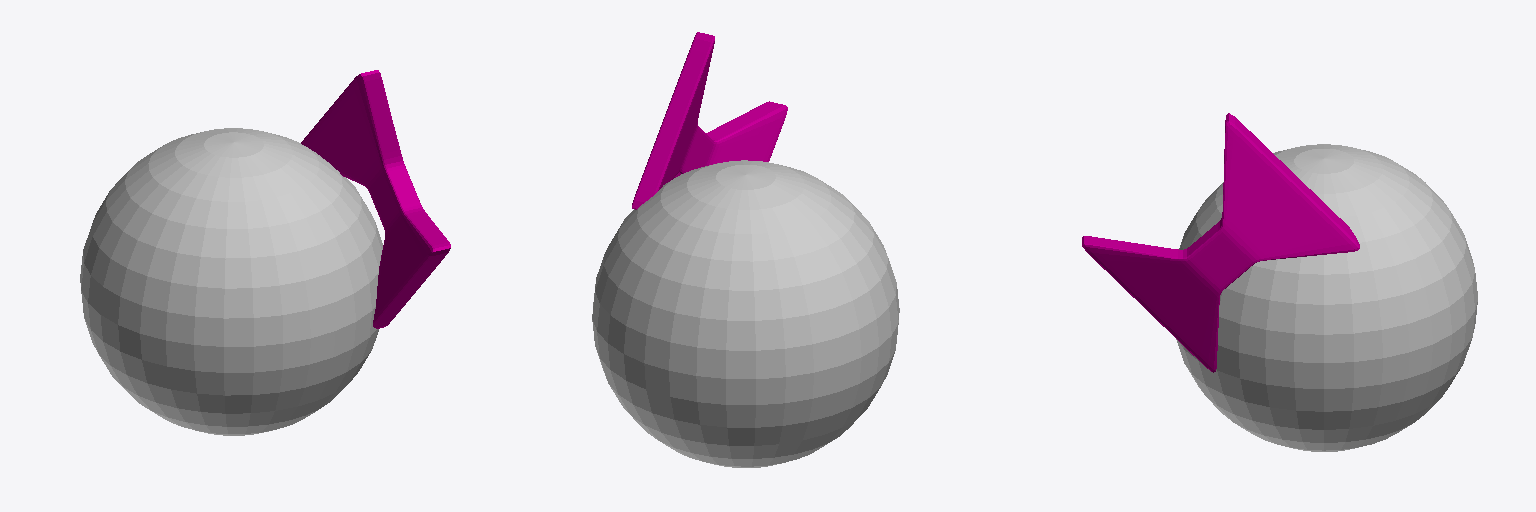
File: angry_female.obj
The picture shows the model from 3 angles: view 1: azimuth 30°, elevation 25°; view 2: azimuth 150°, elevation 25°; view 3: azimuth 270°, elevation 25°; orthographic projection.
Visible parts, largest first — view 1: angry.002, 立方体; view 2: angry.002, 立方体; view 3: angry.002, 立方体.
Part boxes in pixels (x1,y1,x2,y2): angry.002: (80,128,382,435); 立方体: (301,70,450,328); angry.002: (592,160,899,467); 立方体: (632,32,787,209); angry.002: (1176,144,1477,451); 立方体: (1082,113,1359,372).
Size of the model in its own units: 2 by 2.6 by 2.57.